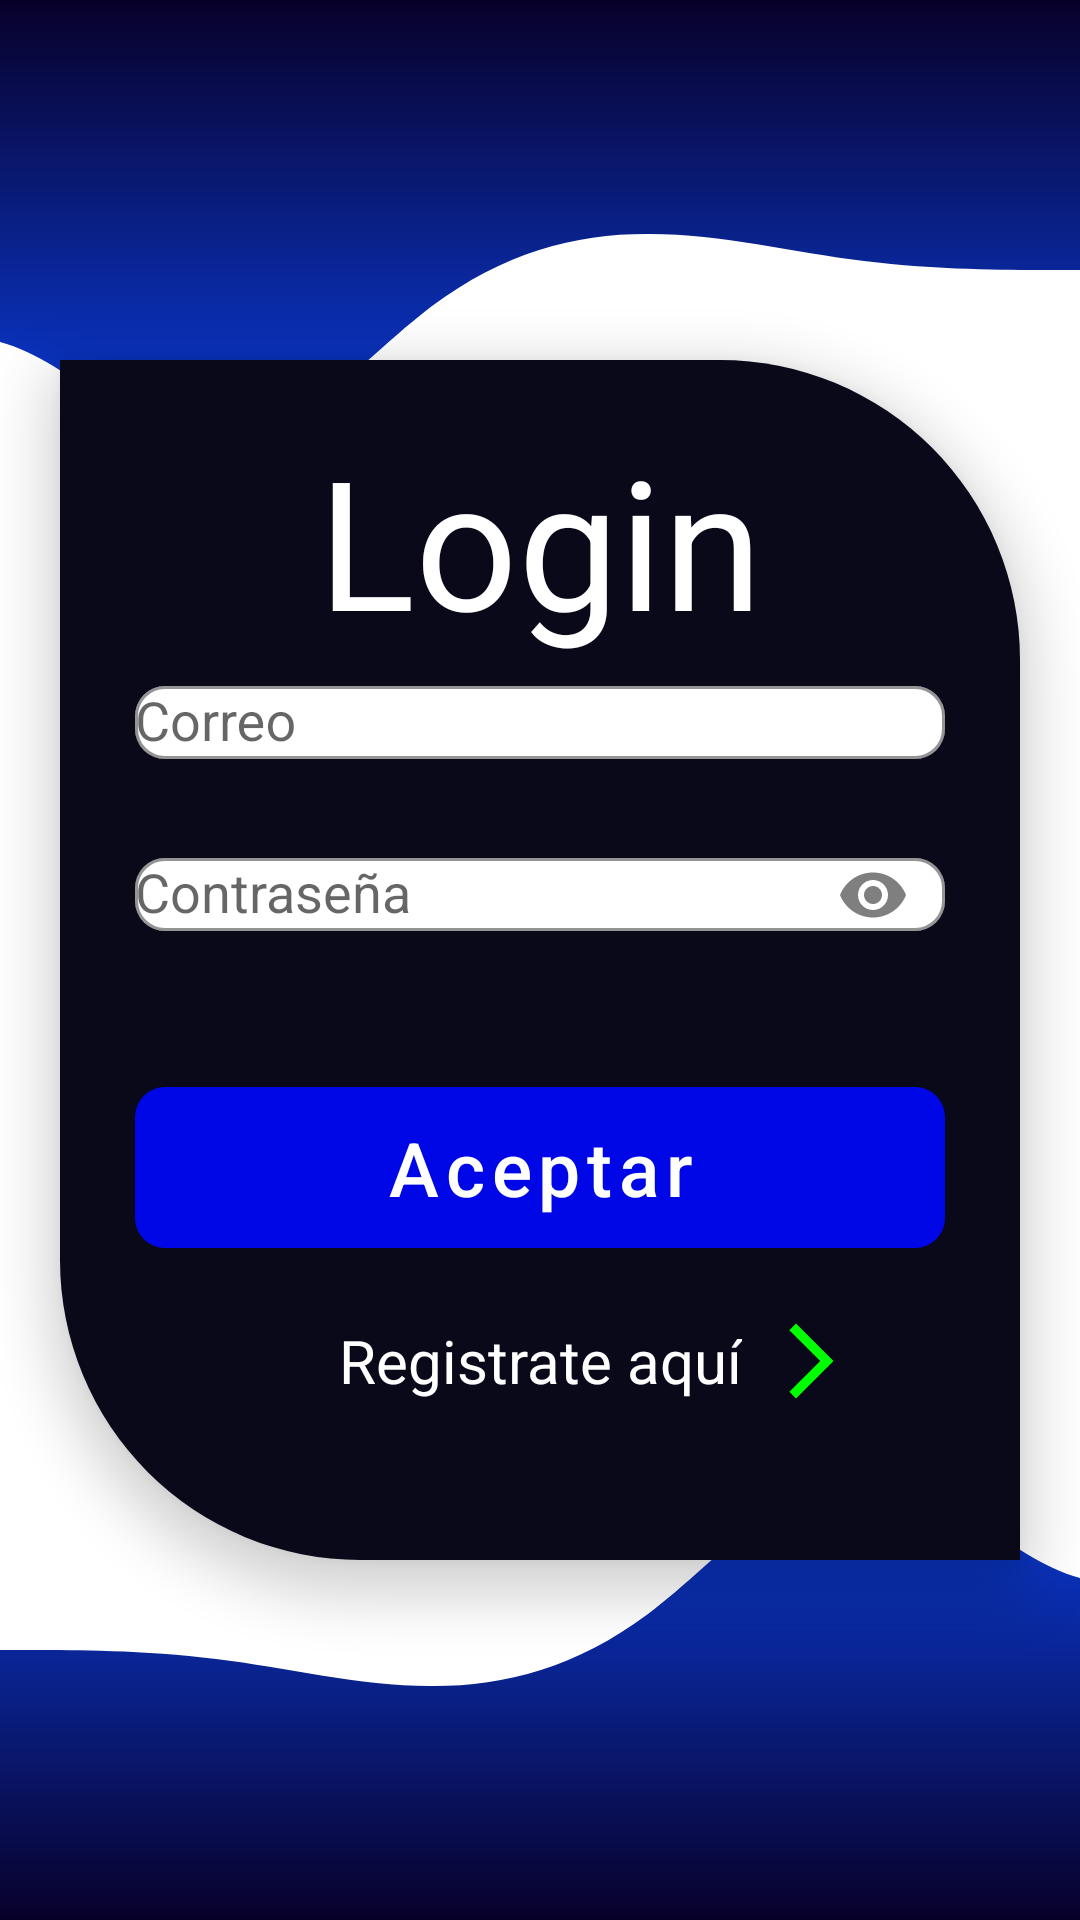

Icon bounding boxes for this 1080 x 1920 phone screenshot, format (x1, y1, x2, y2):
arrow right: (789, 1323, 834, 1399)
